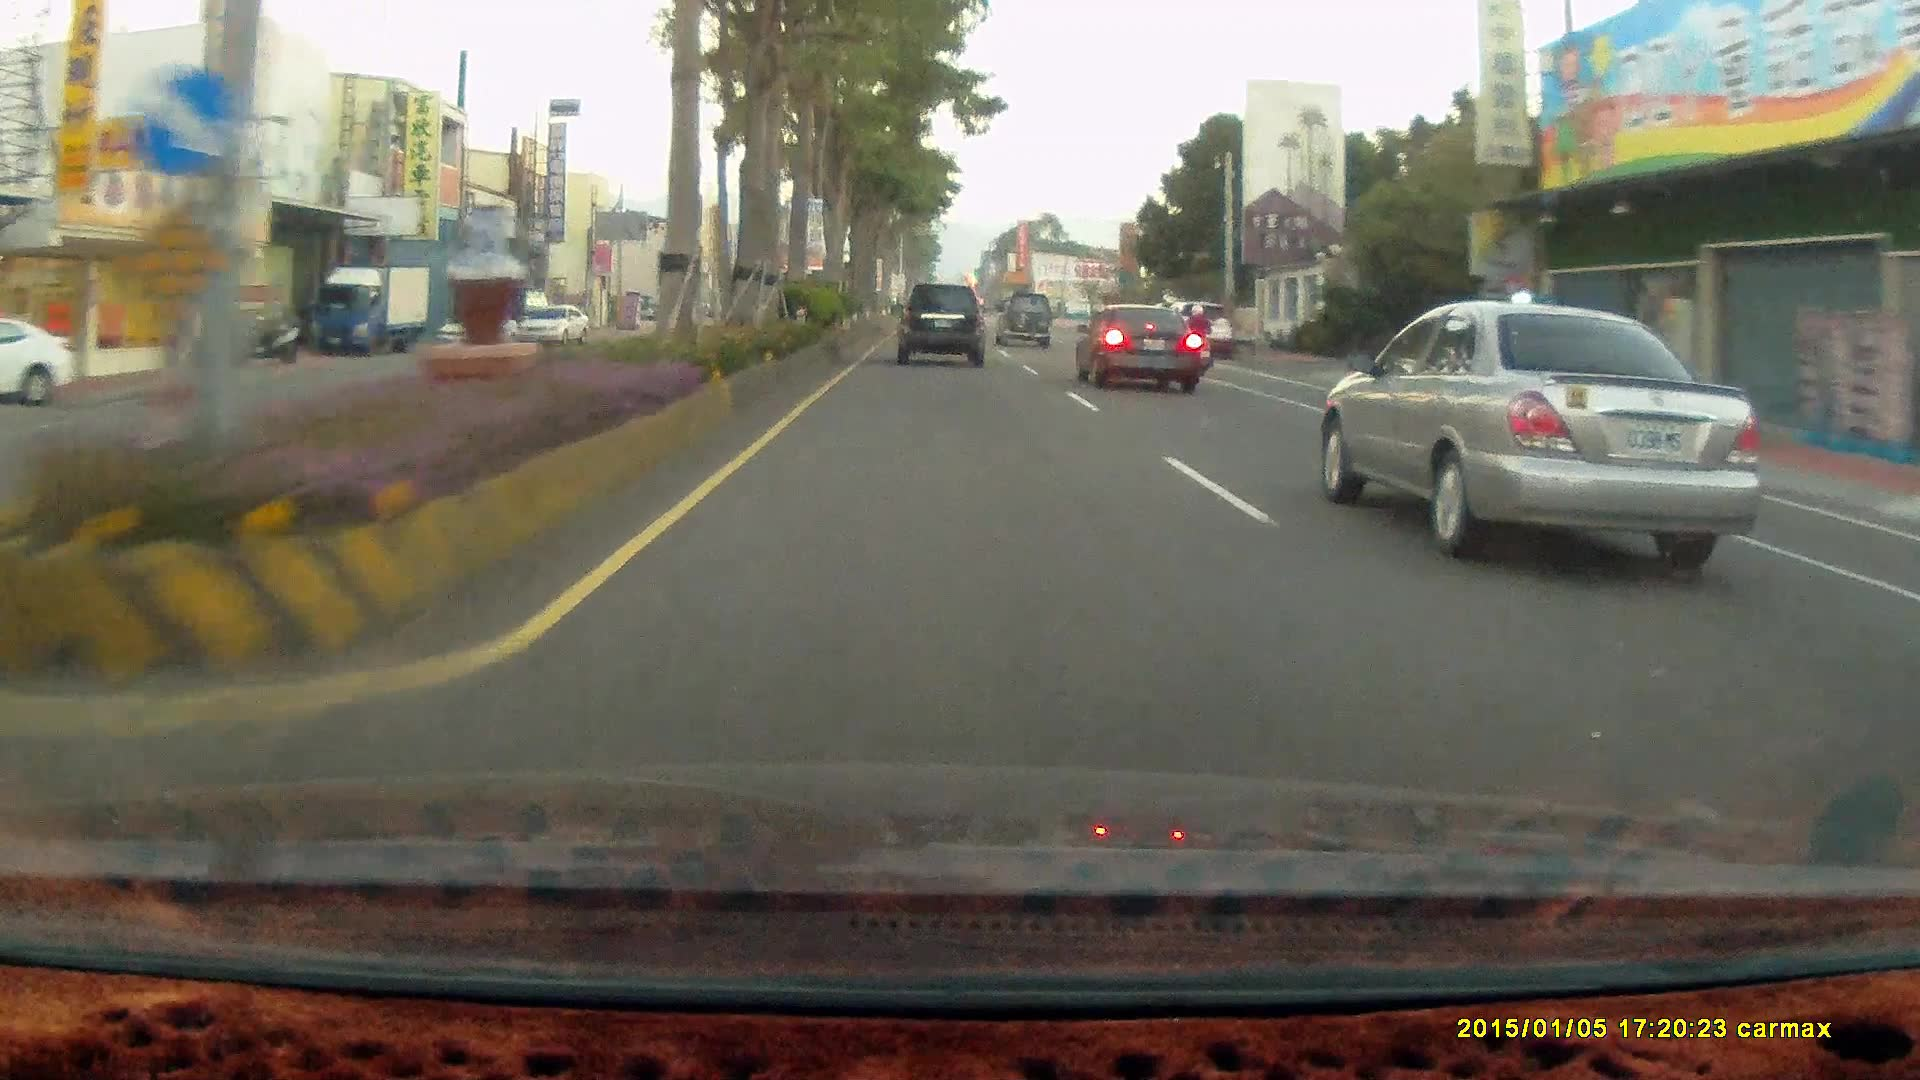rider: (1172, 302, 1216, 377)
vehicle: (1304, 298, 1755, 561), (1070, 301, 1200, 393), (307, 263, 431, 355), (309, 265, 433, 357), (1073, 306, 1202, 394), (893, 282, 988, 370), (895, 284, 981, 368), (1, 317, 80, 407), (1172, 297, 1245, 363), (437, 307, 525, 358), (434, 305, 521, 354), (993, 290, 1054, 351), (514, 305, 591, 349)
